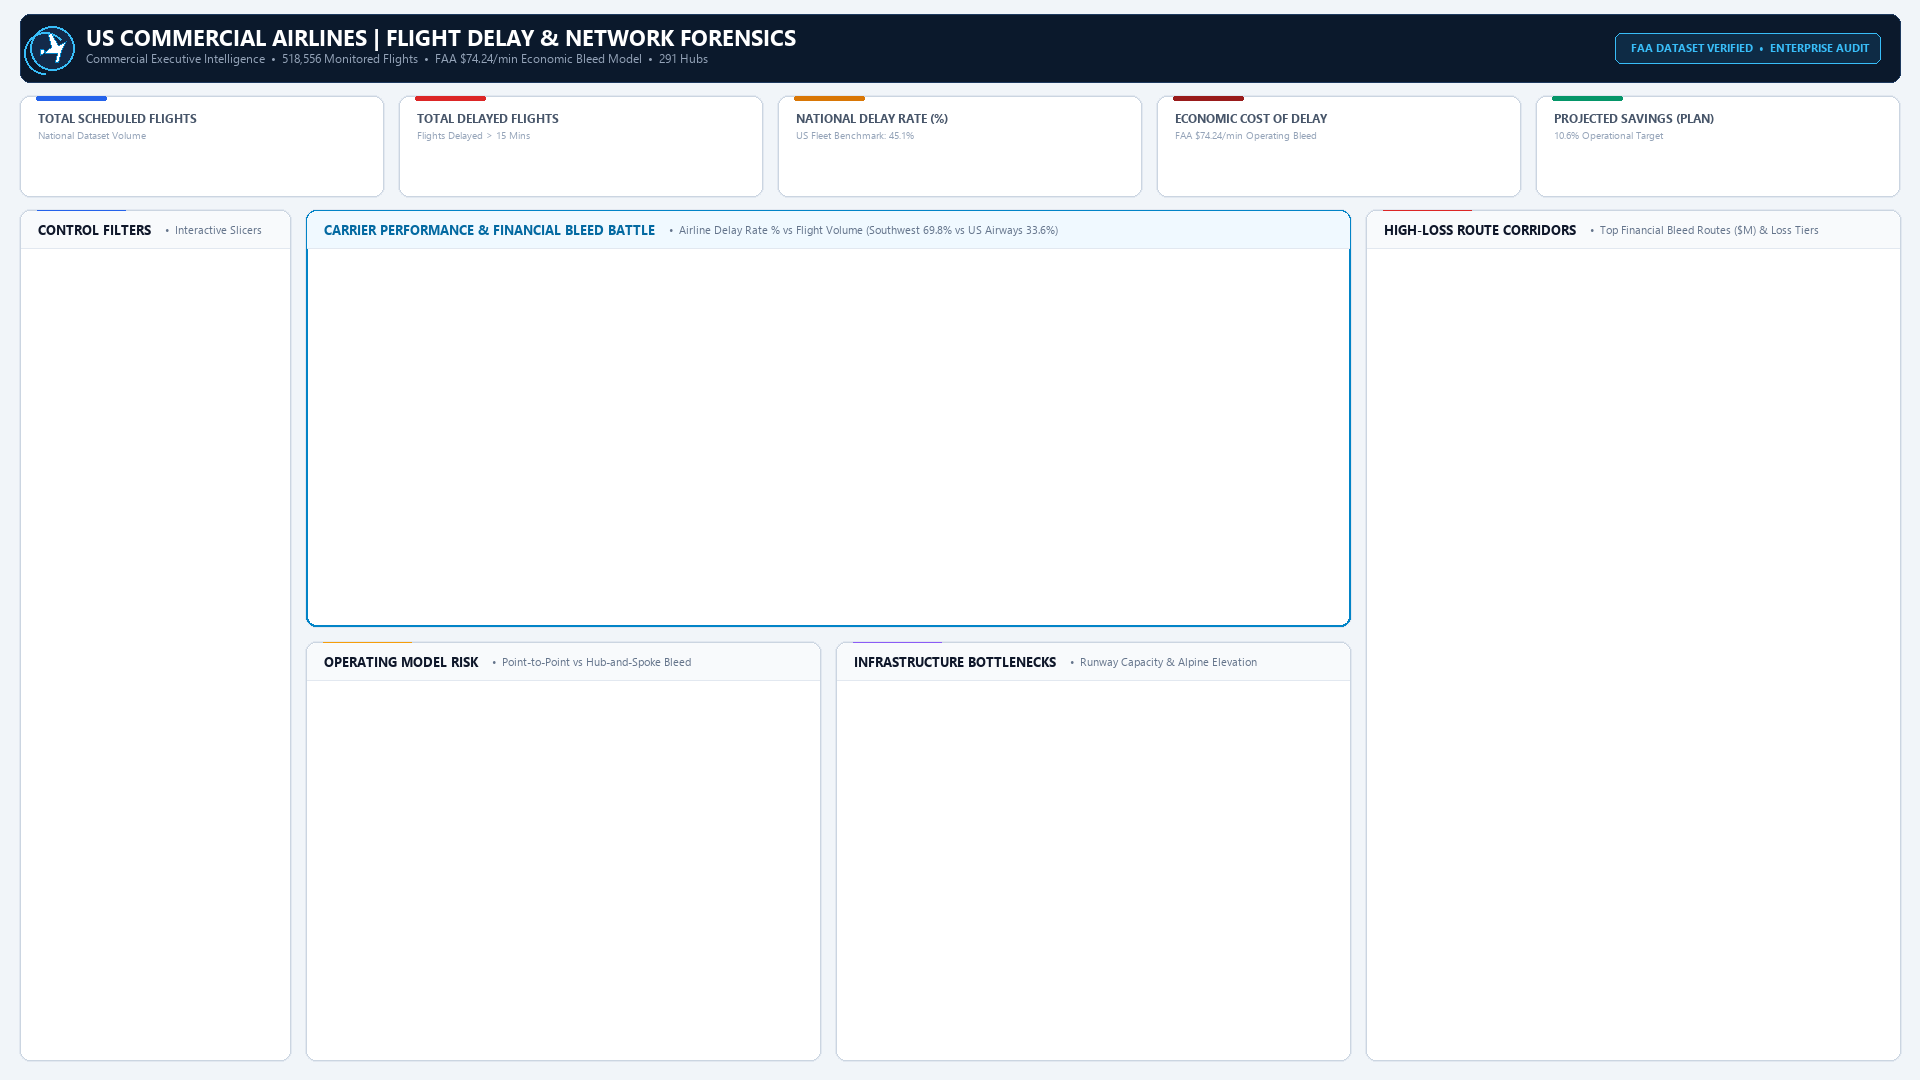

Layout of this report page (visuals, bound fields, positions):
{"tool":"powerbi","page":{"name":"Page 1","canvas":[1920,1080],"ordinal":0},"visuals":[{"type":"cardVisual","fields":{"Data":["powerbi_route_carrier_matrix.Total Flights"]},"box":[26.4,97.3,353.7,93.5],"z":0},{"type":"cardVisual","fields":{"Data":["powerbi_route_carrier_matrix.Delayed Flights"]},"box":[404,97,353.7,93.5],"z":1000},{"type":"cardVisual","fields":{"Data":["powerbi_route_carrier_matrix.Delay Rate %"]},"box":[784,96.9,353.7,93.5],"z":2000},{"type":"cardVisual","fields":{"Data":["powerbi_route_carrier_matrix.Total Delay Cost ($M)"]},"box":[1161,97,353.7,93.5],"z":3000},{"type":"cardVisual","fields":{"Data":["powerbi_route_carrier_matrix.Projected Savings ($M)"]},"box":[1540,97,353.7,93.5],"z":4000},{"type":"clusteredBarChart","fields":{"Category":["powerbi_route_carrier_matrix.carrier_name"],"Y":["powerbi_route_carrier_matrix.Delay Rate %"]},"box":[318.4,245.8,1042.5,374.4],"z":5000},{"type":"tableEx","fields":{"Values":["powerbi_route_carrier_matrix.Route","powerbi_route_carrier_matrix.carrier_name","Sum(powerbi_route_carrier_matrix.flight_volume)","powerbi_route_carrier_matrix.Delay Rate %","powerbi_route_carrier_matrix.Loss ($M)"]},"box":[1369.1,245.8,524.5,806.6],"z":6000},{"type":"slicer","title":"Airline ","fields":{"Values":["powerbi_route_carrier_matrix.carrier_name"]},"box":[26.4,245.8,267.2,262.3],"z":7000},{"type":"slicer","title":"Origin Climate Zone","fields":{"Values":["powerbi_route_carrier_matrix.from_climate_tier"]},"box":[26.4,780.2,267.2,262.3],"z":8000},{"type":"slicer","title":"Loss_category","fields":{"Values":["powerbi_route_carrier_matrix.Financial Loss Tier"]},"box":[26.4,517.9,267.2,262.3],"z":9000},{"type":"clusteredColumnChart","fields":{"Category":["powerbi_route_carrier_matrix.from_climate_tier"],"Y":["powerbi_route_carrier_matrix.Total Scheduled Flights"]},"box":[839.6,677.9,509.7,374.4],"z":10000},{"type":"clusteredColumnChart","fields":{"Category":["powerbi_route_carrier_matrix.operating_model"],"Y":["powerbi_route_carrier_matrix.Delay Rate %"]},"box":[306.8,677.9,514.6,374.4],"z":11000}]}

Visuals, with their boxes in screenshot pixels (x1, y1, x2, y2), scaled from the page's 1920x1080 canvas onto the 1920x1080 screenshot:
cardVisual - powerbi_route_carrier_matrix.Total Flights: bbox=[26, 97, 380, 191]
cardVisual - powerbi_route_carrier_matrix.Delayed Flights: bbox=[404, 97, 758, 190]
cardVisual - powerbi_route_carrier_matrix.Delay Rate %: bbox=[784, 97, 1138, 190]
cardVisual - powerbi_route_carrier_matrix.Total Delay Cost ($M): bbox=[1161, 97, 1515, 190]
cardVisual - powerbi_route_carrier_matrix.Projected Savings ($M): bbox=[1540, 97, 1894, 190]
clusteredBarChart - powerbi_route_carrier_matrix.carrier_name x powerbi_route_carrier_matrix.Delay Rate %: bbox=[318, 246, 1361, 620]
tableEx - powerbi_route_carrier_matrix.Route x powerbi_route_carrier_matrix.carrier_name: bbox=[1369, 246, 1894, 1052]
"Airline " slicer: bbox=[26, 246, 294, 508]
"Origin Climate Zone" slicer: bbox=[26, 780, 294, 1042]
"Loss_category" slicer: bbox=[26, 518, 294, 780]
clusteredColumnChart - powerbi_route_carrier_matrix.from_climate_tier x powerbi_route_carrier_matrix.Total Scheduled Flights: bbox=[840, 678, 1349, 1052]
clusteredColumnChart - powerbi_route_carrier_matrix.operating_model x powerbi_route_carrier_matrix.Delay Rate %: bbox=[307, 678, 821, 1052]
